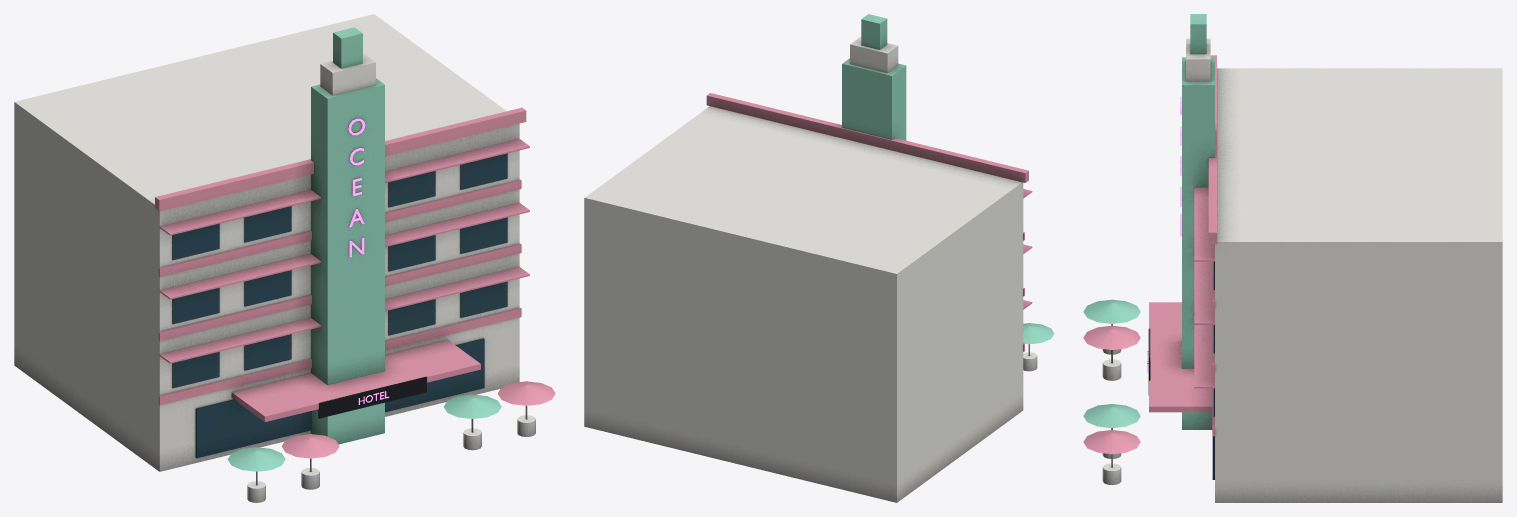
The model's file is hotel_deco_rosa.glb.
3 renders of one model, left to right at view 1: azimuth 30°, elevation 25°; view 2: azimuth 150°, elevation 25°; view 3: azimuth 270°, elevation 25°, orthographic. The views are drawn at different scales.
Parts seen in each view (by area): view 1: hotel_deco_rosa; view 2: hotel_deco_rosa; view 3: hotel_deco_rosa.
Part boxes in pixels (x1,y1,x2,y2): hotel_deco_rosa: (14, 14, 555, 502); hotel_deco_rosa: (584, 14, 1054, 502); hotel_deco_rosa: (1083, 14, 1502, 502).
Bounding box in the file's own units: 20.4 × 21.3 × 20.4.
1 material, 1 textured.
